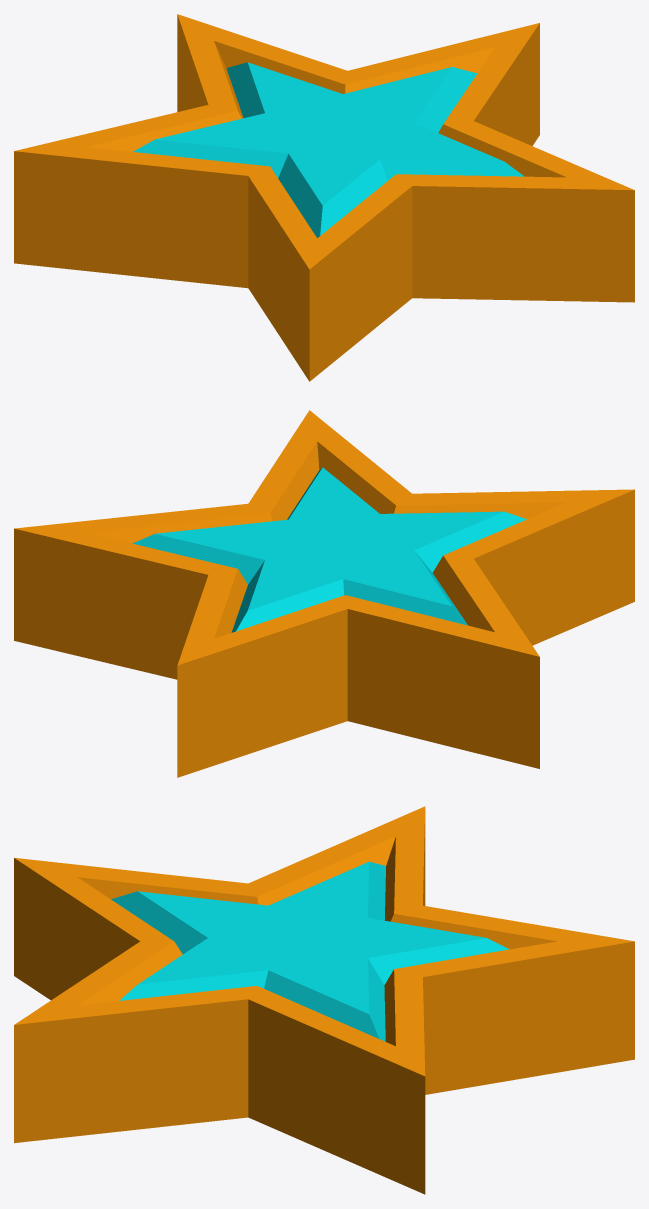
File: star.fbx
3 renders of one model, top to bottom at view 1: azimuth 30°, elevation 25°; view 2: azimuth 150°, elevation 25°; view 3: azimuth 270°, elevation 25°, orthographic. The views are drawn at different scales.
Visible parts, largest first — view 1: Cylinder.005; view 2: Cylinder.005; view 3: Cylinder.005.
Boxes of the visible parts, <box> form: Cylinder.005: <box>14,14,634,381</box>; Cylinder.005: <box>14,410,634,777</box>; Cylinder.005: <box>14,806,634,1194</box>.
Bounding box in the file's own units: 169 × 35.56 × 164.
